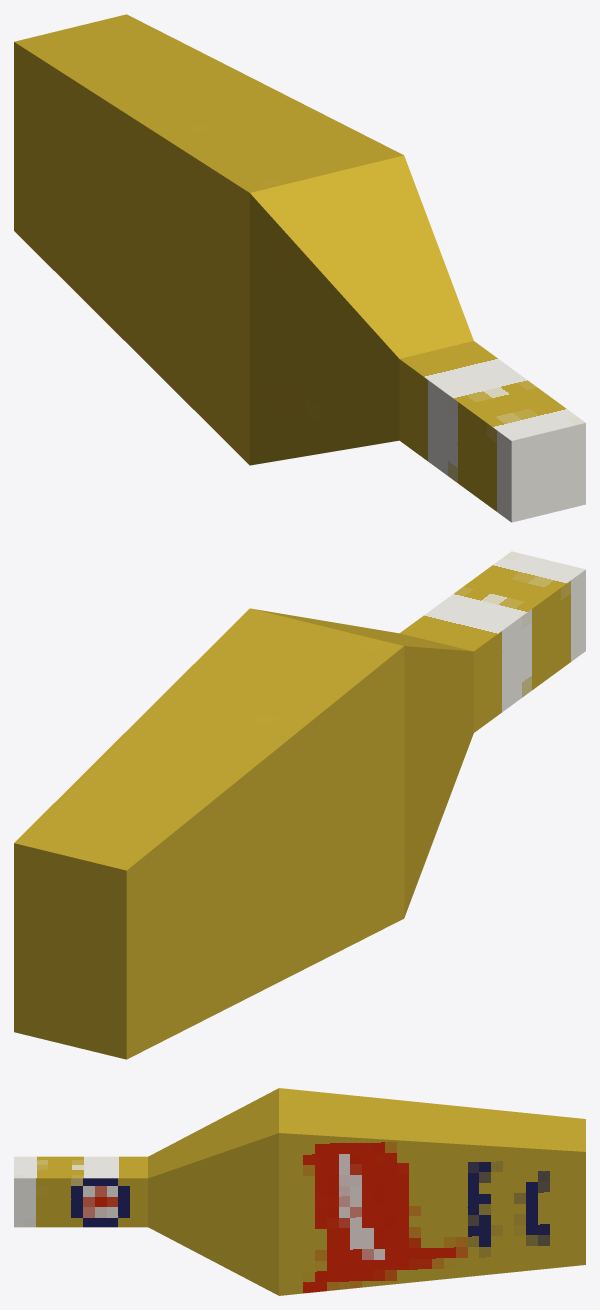
Rendered from mustard.fbx.
3 renders of one model, top to bottom at view 1: azimuth 30°, elevation 25°; view 2: azimuth 150°, elevation 25°; view 3: azimuth 270°, elevation 25°, orthographic. The views are drawn at different scales.
Visible parts, largest first — view 1: Cube; view 2: Cube; view 3: Cube.
Part boxes in pixels (box(x1,y1,x2,y2)): Cube: box(14, 14, 585, 522); Cube: box(14, 551, 585, 1059); Cube: box(14, 1088, 585, 1295).
Size of the model in its own units: 57.66 by 97.3 by 310.
Materials: 1 (1 with a texture image).
